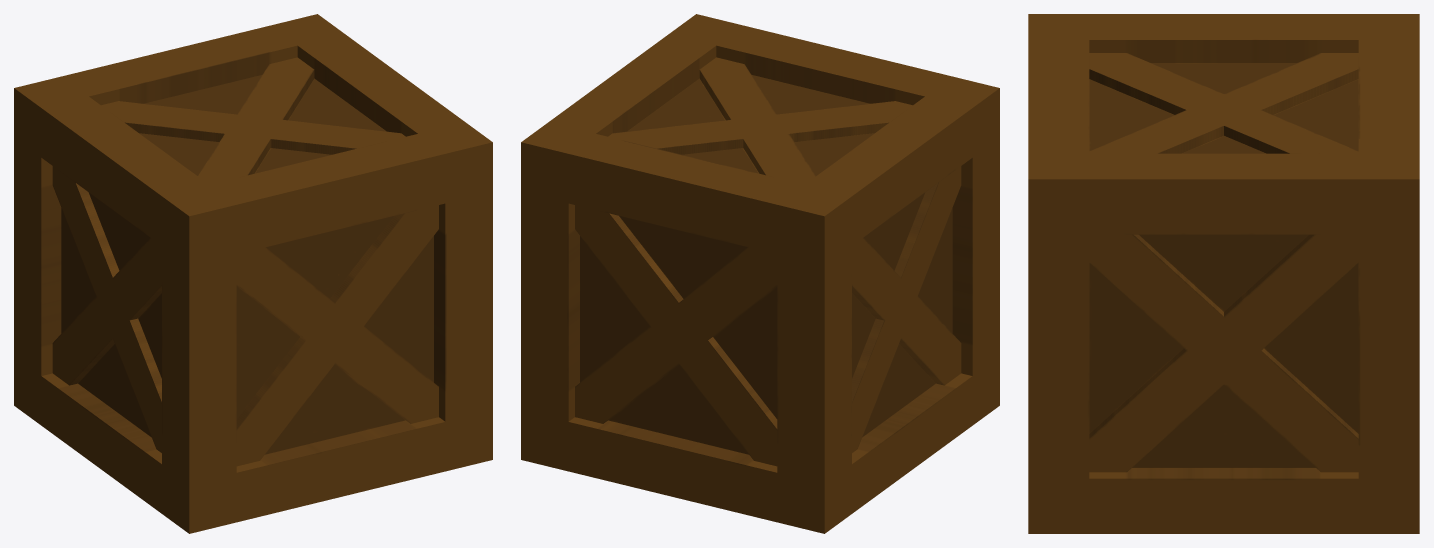
Rendered from Caja_Tipo2.fbx.
3 renders of one model, left to right at view 1: azimuth 30°, elevation 25°; view 2: azimuth 150°, elevation 25°; view 3: azimuth 270°, elevation 25°, orthographic. The views are drawn at different scales.
Parts seen in each view (by area): view 1: Cubo.023; view 2: Cubo.023; view 3: Cubo.023.
Boxes of the visible parts, x1,y1,x2,y2 form: Cubo.023: (14,14,492,533); Cubo.023: (521,14,999,533); Cubo.023: (1028,14,1419,533).
Bounding box in the file's own units: 85 × 85 × 85.
1 material, 1 textured.
